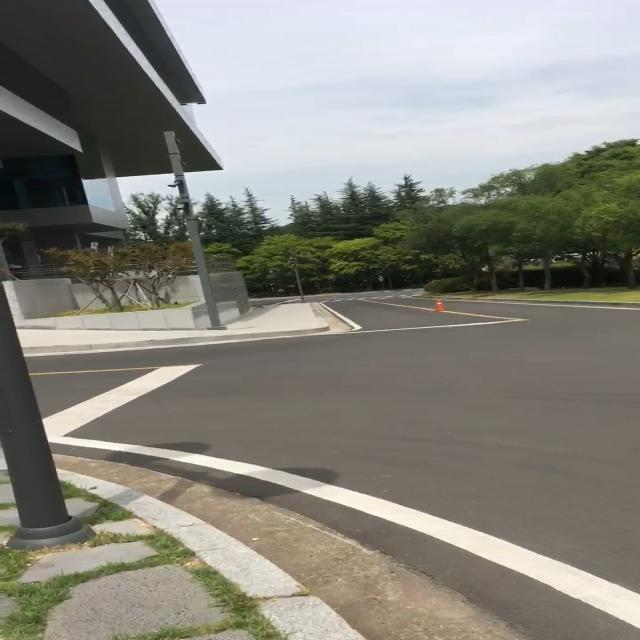obstacle: (0, 283, 82, 544)
road: (27, 306, 640, 640)
sidewalk: (0, 469, 366, 640)
